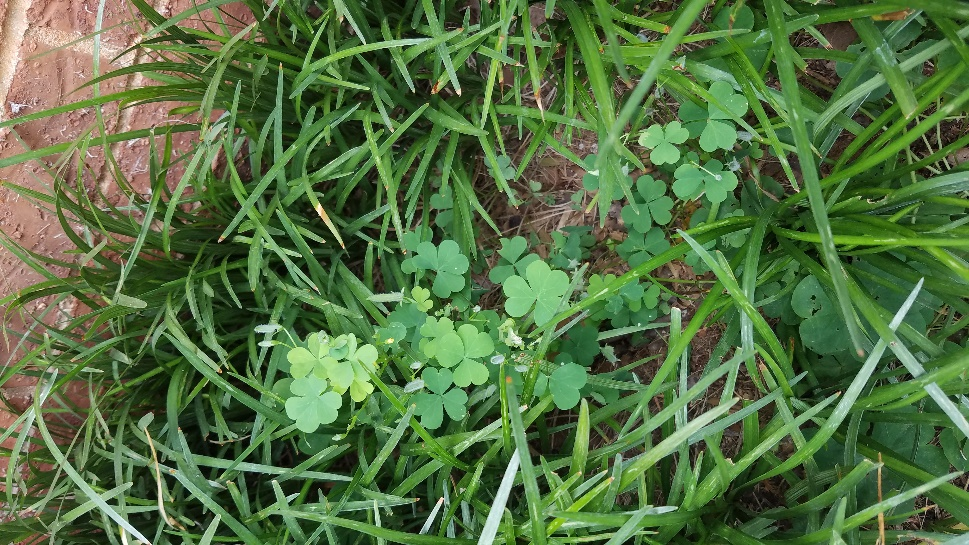oxalis: (228, 225, 573, 437), (596, 81, 758, 246), (565, 265, 673, 332)
